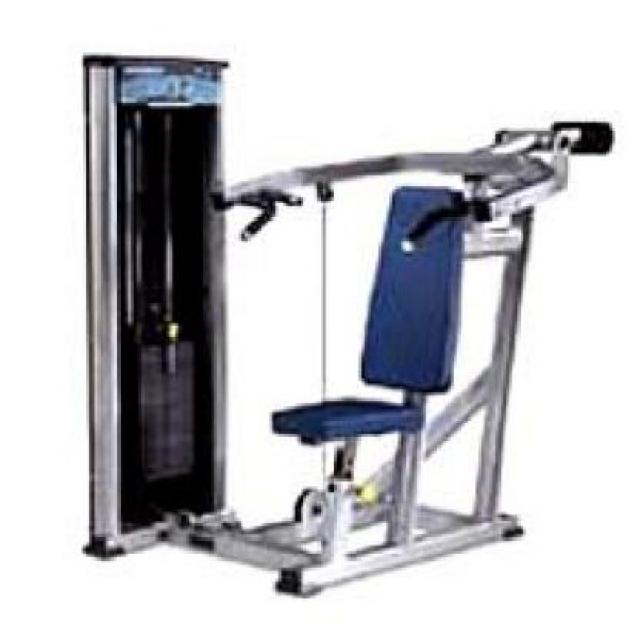shoulder press machine: (47, 27, 640, 640)
